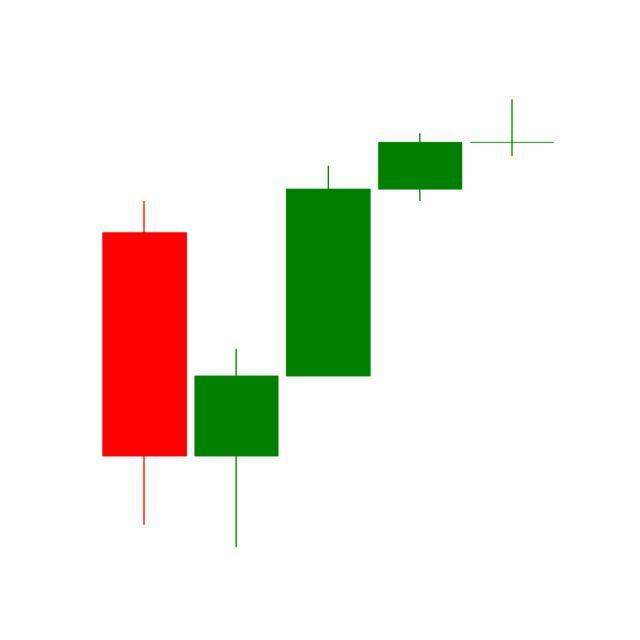Spinning Top: (466, 98, 559, 158)
